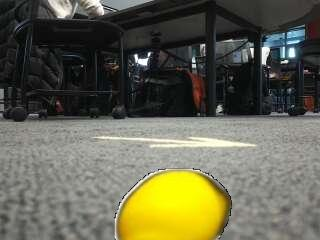lemon: (116, 170, 227, 238)
